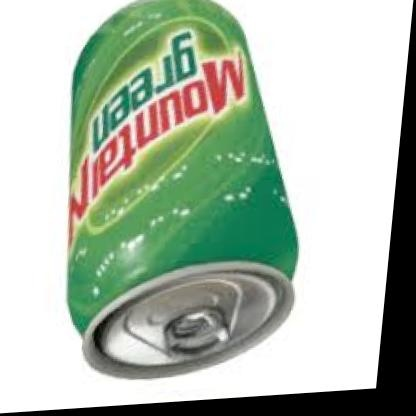trash: (68, 0, 296, 369)
